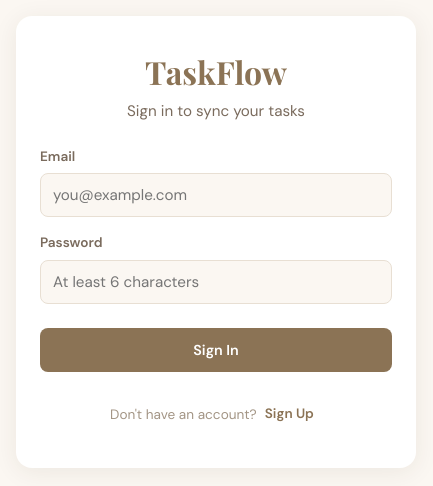
Scenario: Auth component › switches back to sign-in mode
Click the button "Sign Up".
click(289, 414)  # box [257, 392, 322, 436]
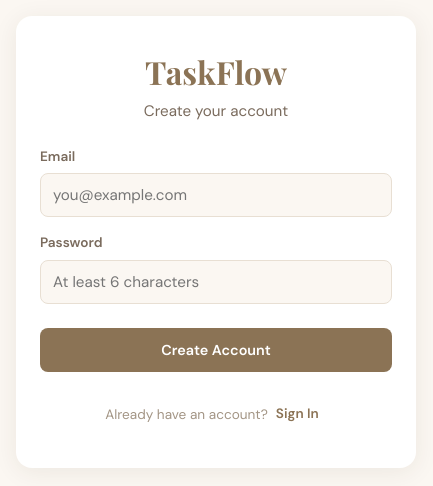
Click the button "Sign In".
click(297, 414)  # box [268, 392, 327, 436]
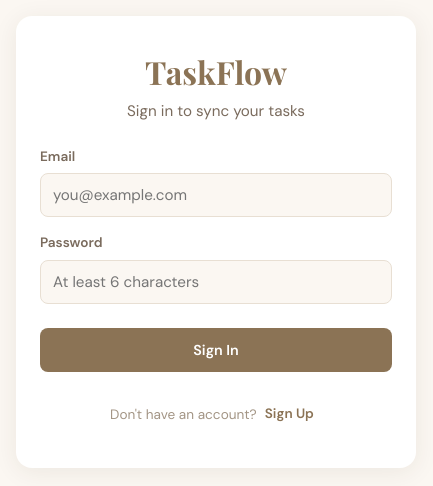
Expected: the text "Sign in to sync your tasks" is shown, [127, 101, 305, 121]
